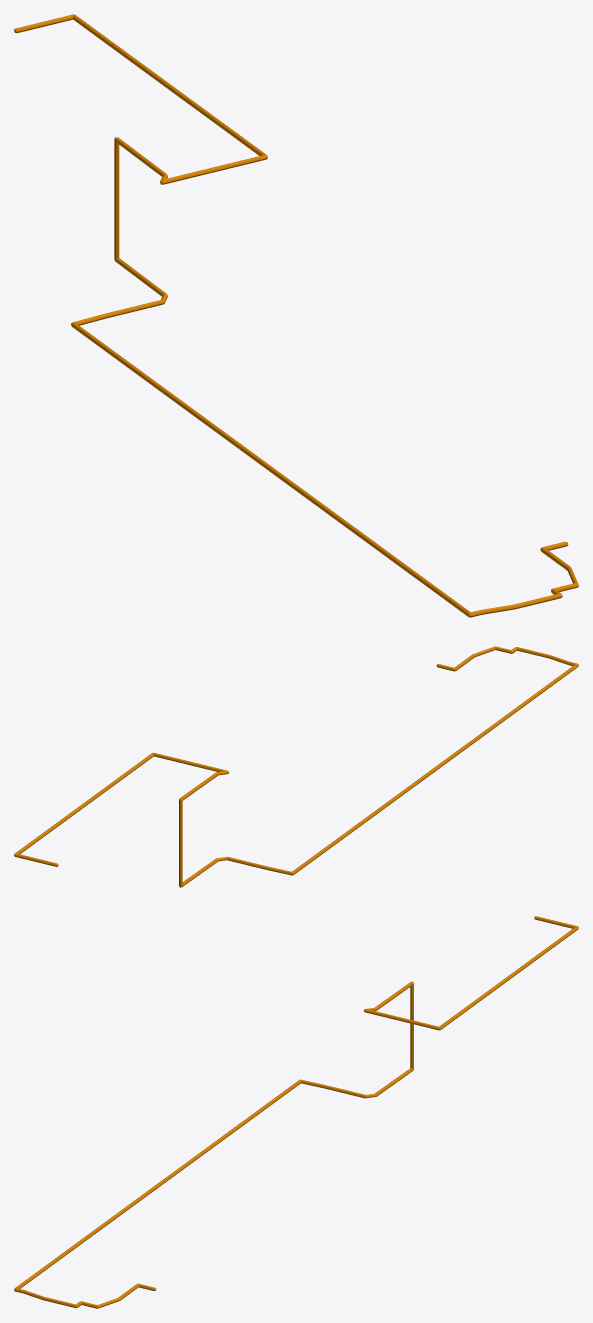
The picture shows the model from 3 angles, top to bottom: view 1: azimuth 30°, elevation 25°; view 2: azimuth 150°, elevation 25°; view 3: azimuth 330°, elevation 25°; orthographic projection. The views are drawn at different scales.
Size of the model in its own units: 862 by 520 by 4497.
